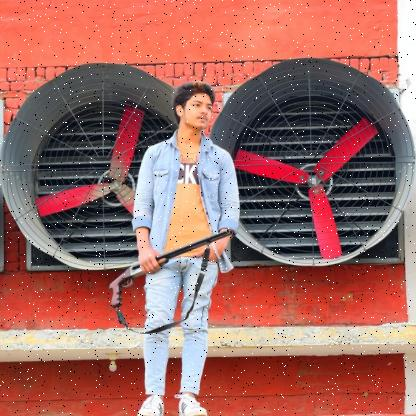rifle: (107, 228, 235, 310)
